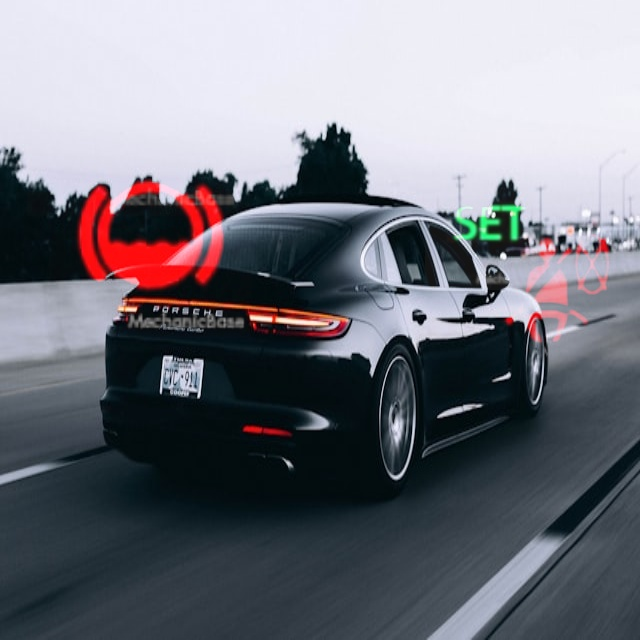symbol: (27, 0, 243, 216), (49, 135, 252, 338), (482, 212, 635, 365), (425, 158, 557, 290)
